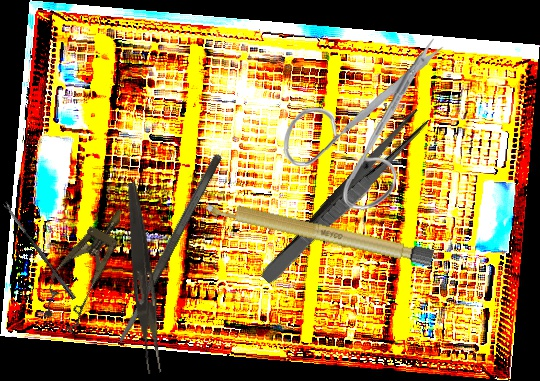Dressing Forceps: (258, 106, 432, 291), (117, 181, 169, 375)
Iris Scissors: (280, 29, 446, 214)
Scalpel Handle: (203, 197, 435, 267)
Spatula Surgical: (113, 151, 225, 347)
Speculum: (31, 197, 142, 335)
Surgical Spoon: (2, 200, 77, 301)
